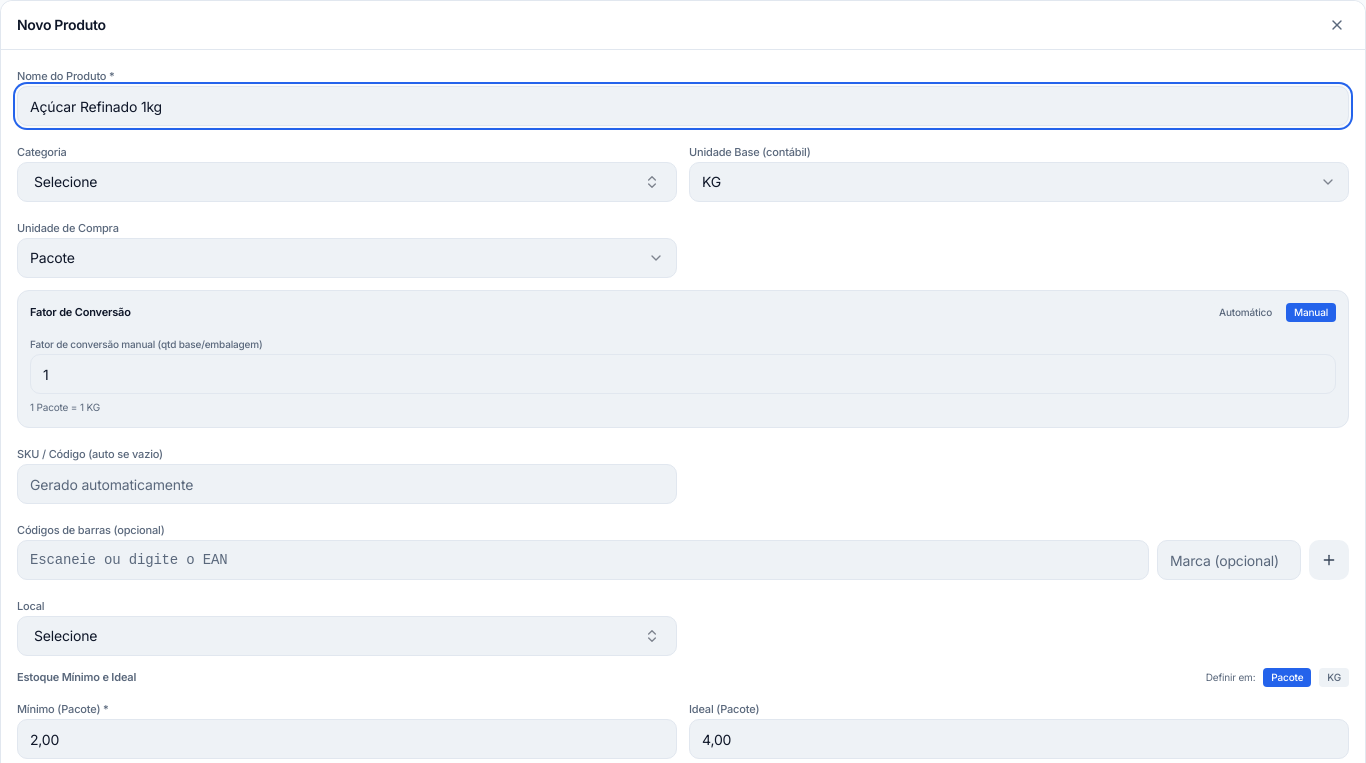
lista de códigos de barras › adiciona o código pelo botão [+]
The width and height of the screenshot is (1366, 763).
Type "7891234567890" into the field named "Código de barras" at [583, 560], box [17,540,1149,580]
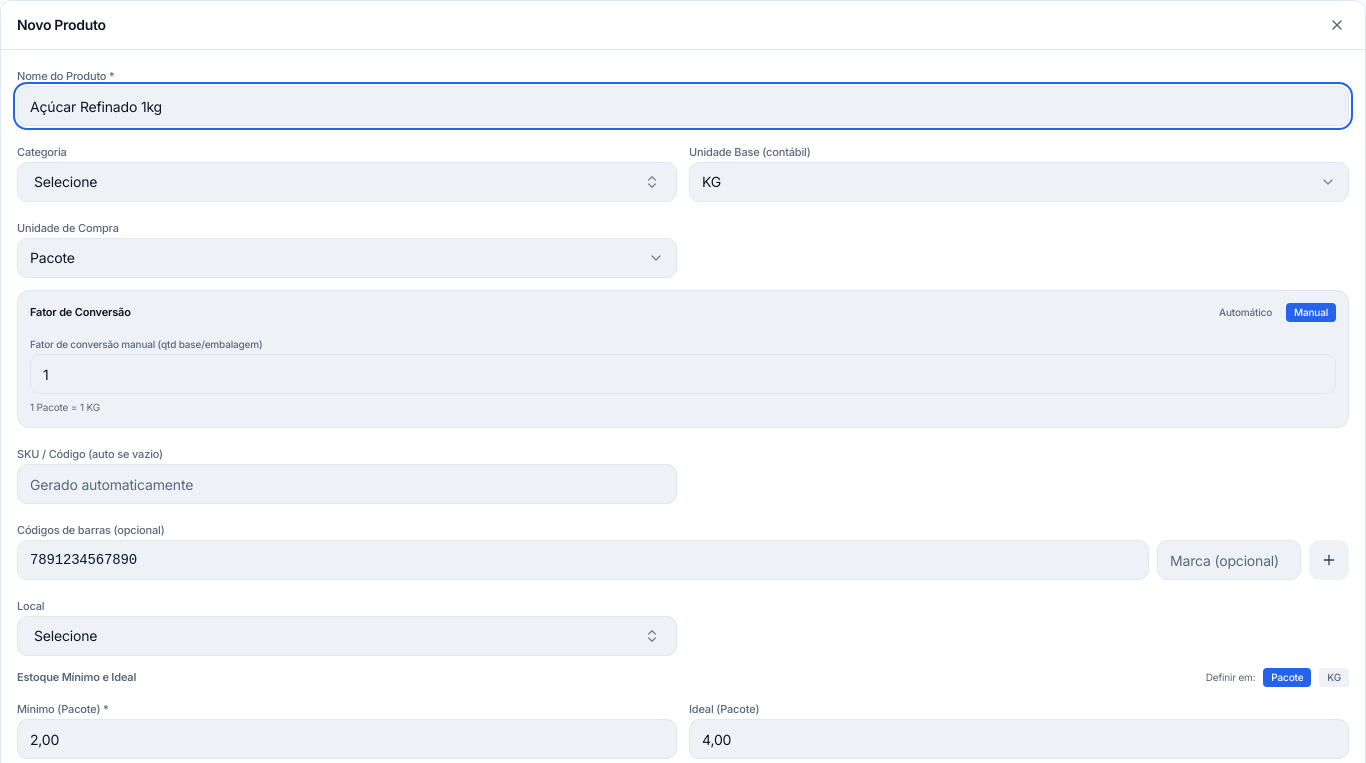
Type "União" into the field named "Marca do código de barras" at [1229, 560], box [1157,540,1301,580]
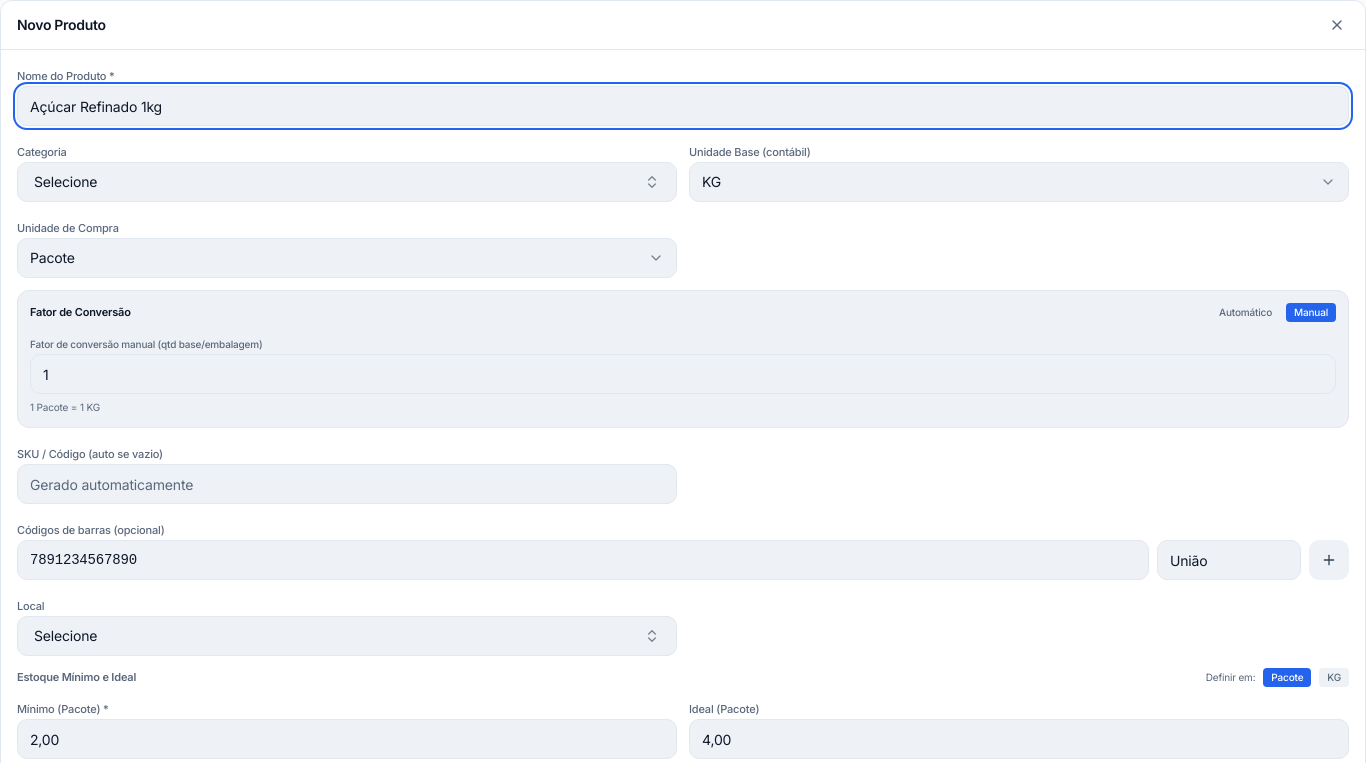
Click the button named "Adicionar código de barras" at [1329, 560], box [1309,540,1349,580]
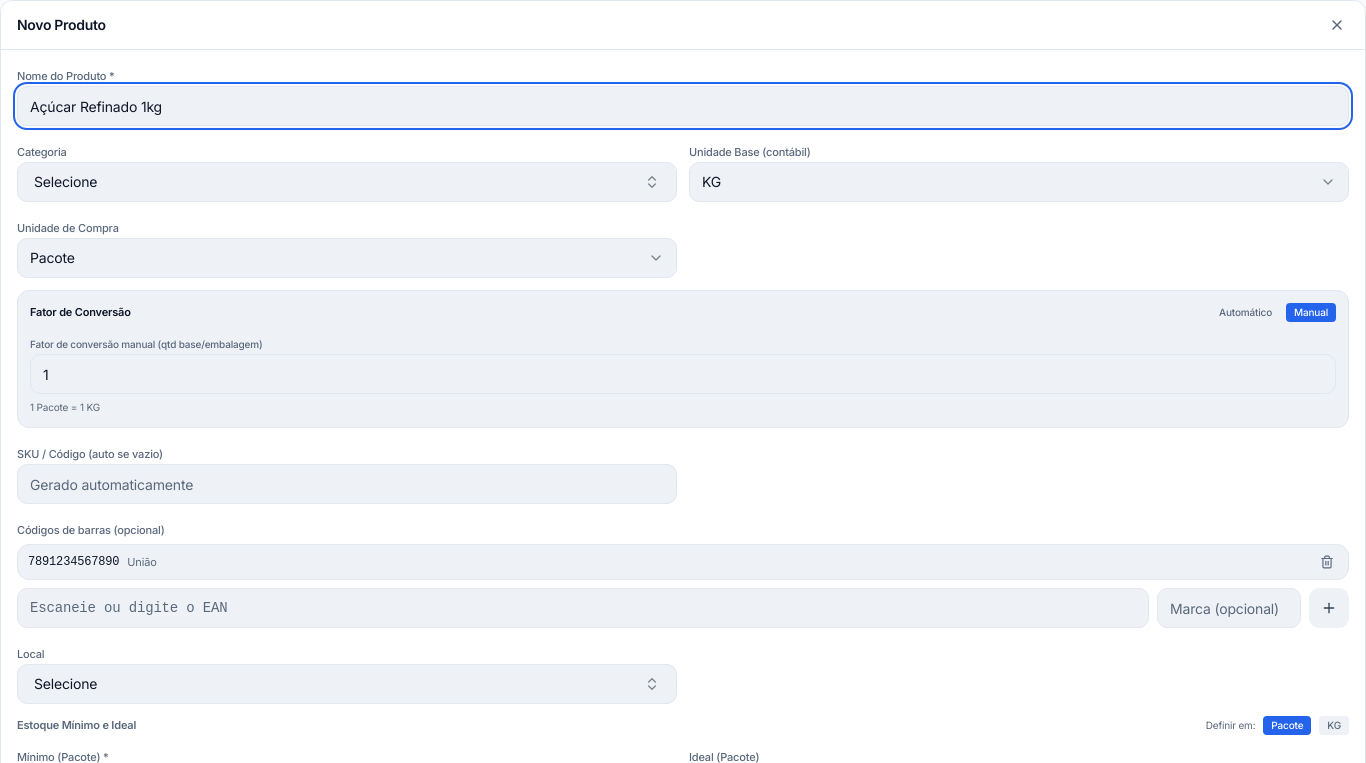
Result: the text "7891234567890" is shown at [28,554,119,570]
Result: the text "União" is shown at [127,554,157,570]
Result: the field named "Código de barras" is empty at [17,588,1149,628]
